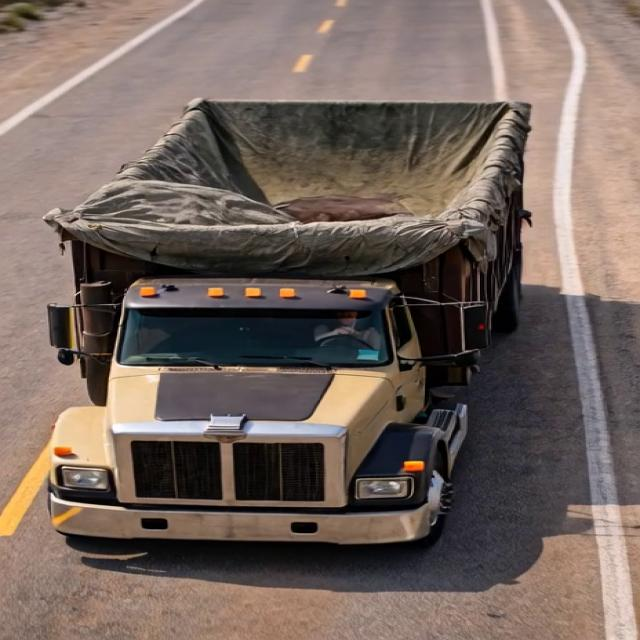Box: (39, 94, 536, 254)
Truck: (10, 73, 562, 560)
